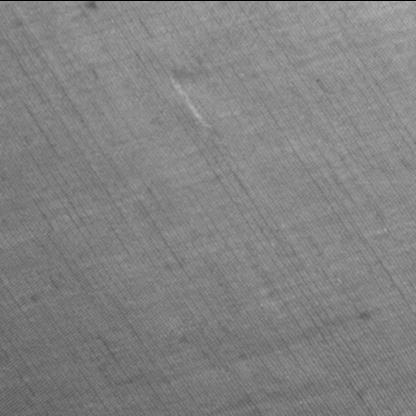thread error: (166, 65, 216, 133)
